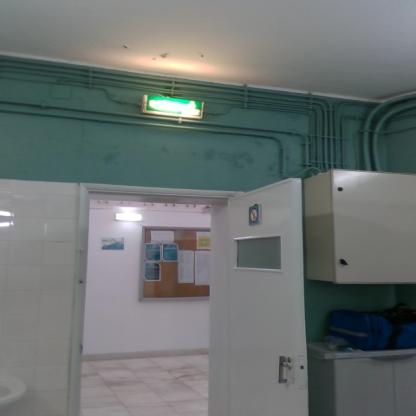closed: (54, 167, 311, 416)
